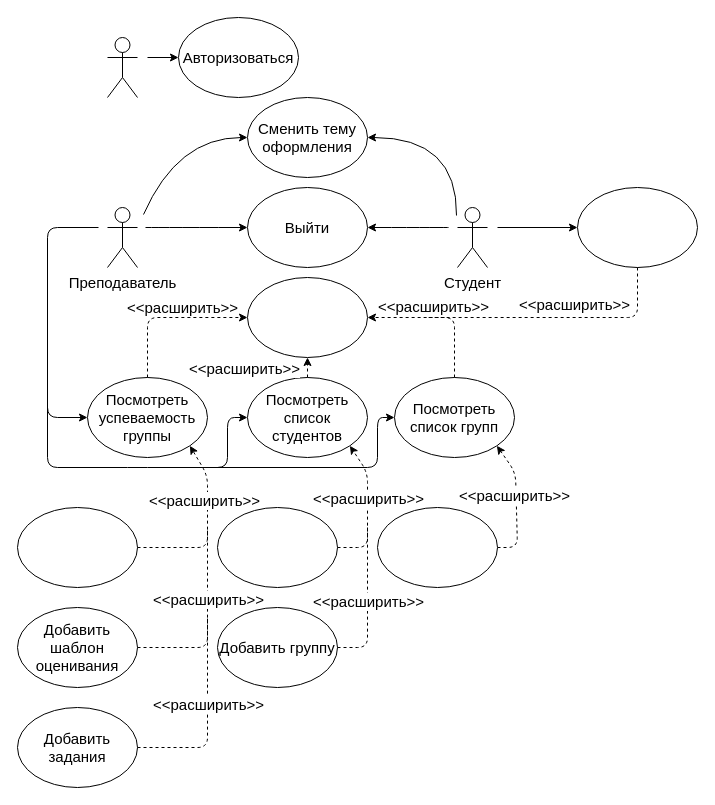
The diagram is 715 pixels wide and 805 high, and some of its shapes have lost their labels. Each missing label, with the box of its shape:
Добавить дисциплину: (376, 506, 498, 588)
Добавить работу: (16, 506, 138, 588)
Добавить студента: (216, 506, 338, 588)
Настроить фильтрацию: (246, 276, 368, 358)
Неавторизованный пользователь: (106, 36, 138, 98)
Посмотреть успеваемость: (576, 186, 698, 268)
